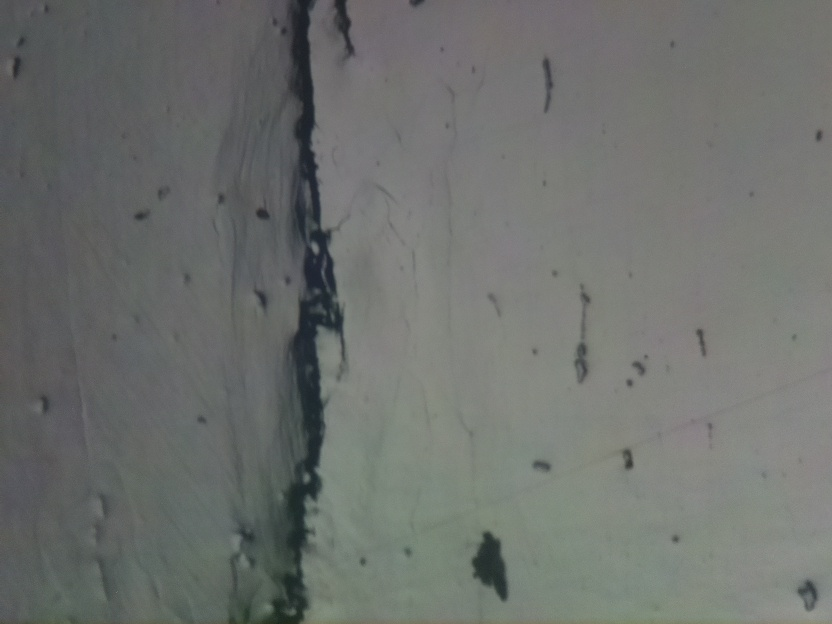crack: (264, 0, 344, 624), (339, 0, 361, 57)
